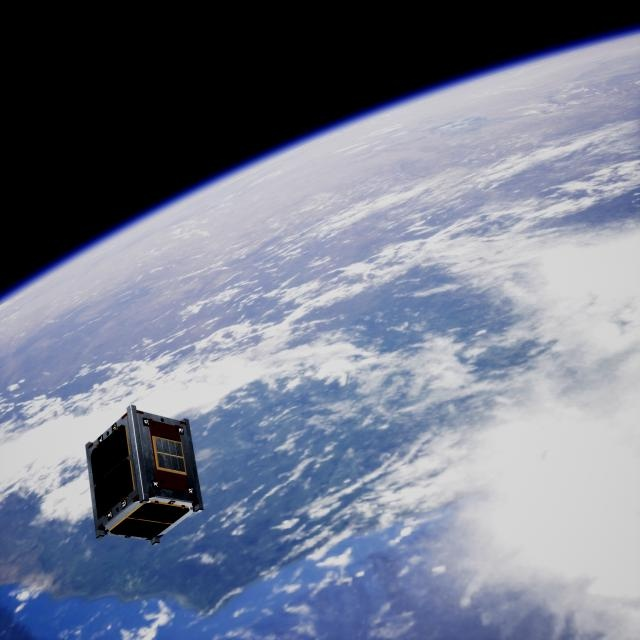medium_debris: (76, 404, 209, 546)
